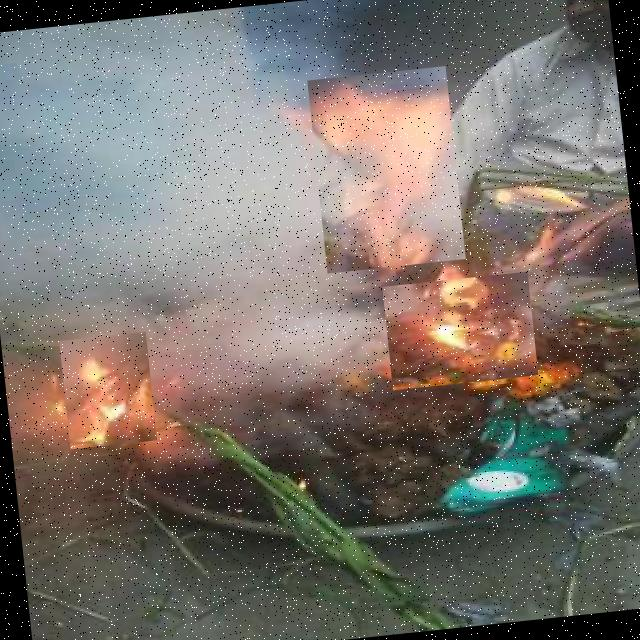fire: (306, 66, 466, 273), (382, 271, 538, 390), (58, 332, 156, 448)
